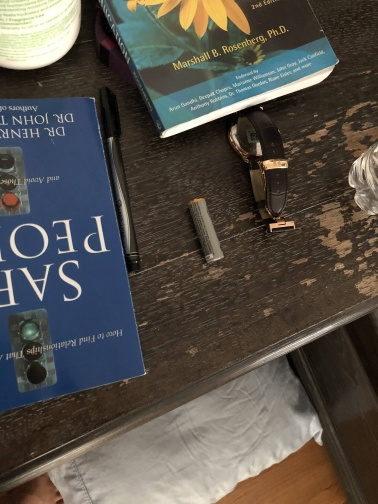battery: (184, 195, 228, 266)
